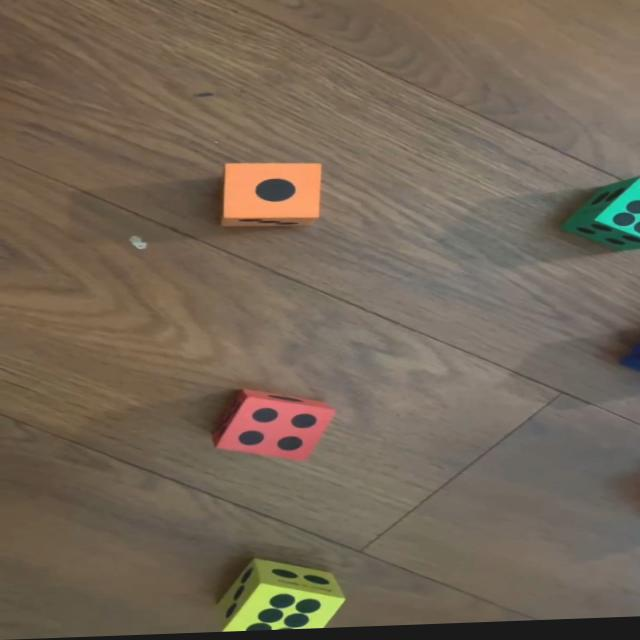red_block: (212, 389, 336, 466)
